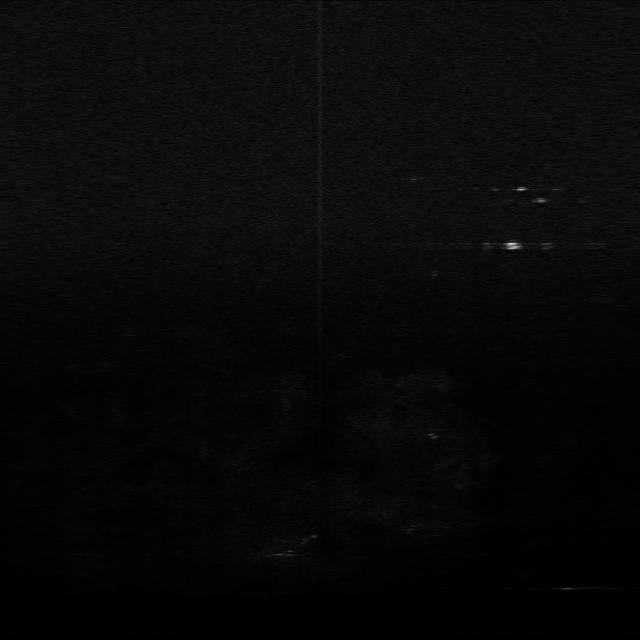rov: (501, 238, 523, 253)
